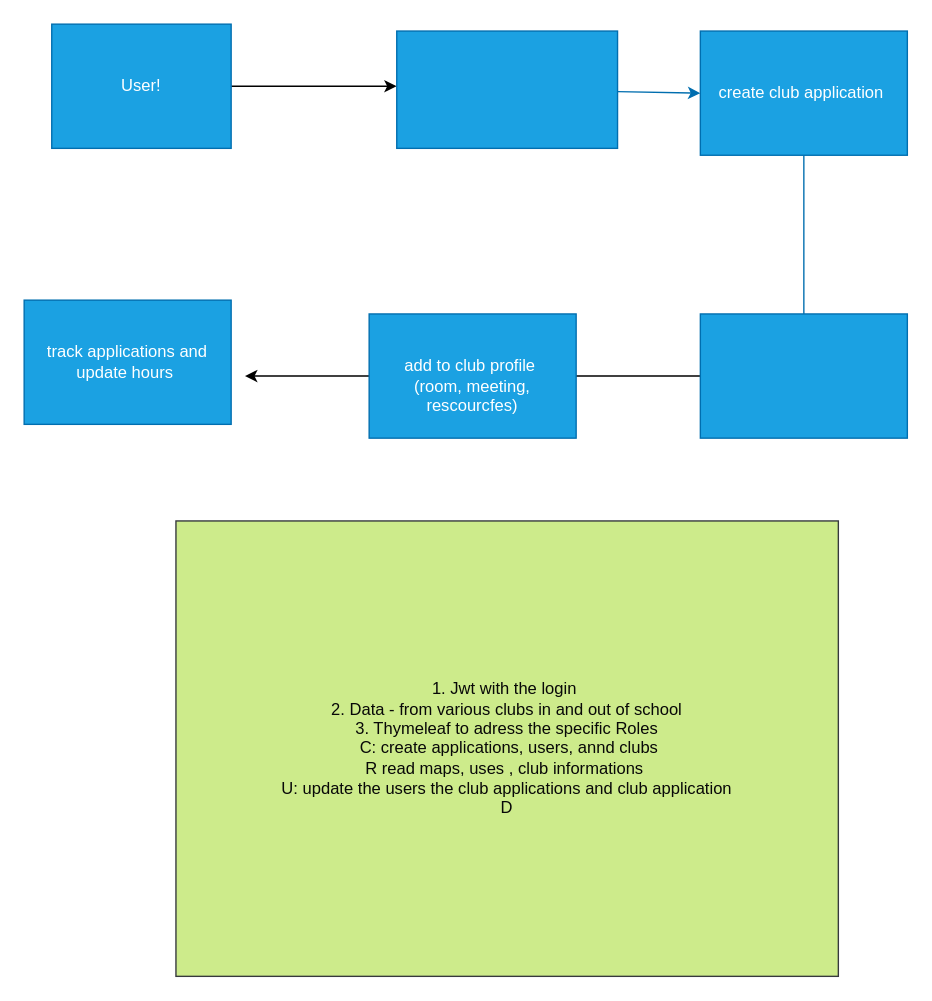
The diagram is 932 pixels wide and 1001 high, and some of its shapes have lost their labels. Each missing label, with the box of its shape:
define the roles: (699, 313, 907, 438)
login create a club: (395, 30, 618, 148)
